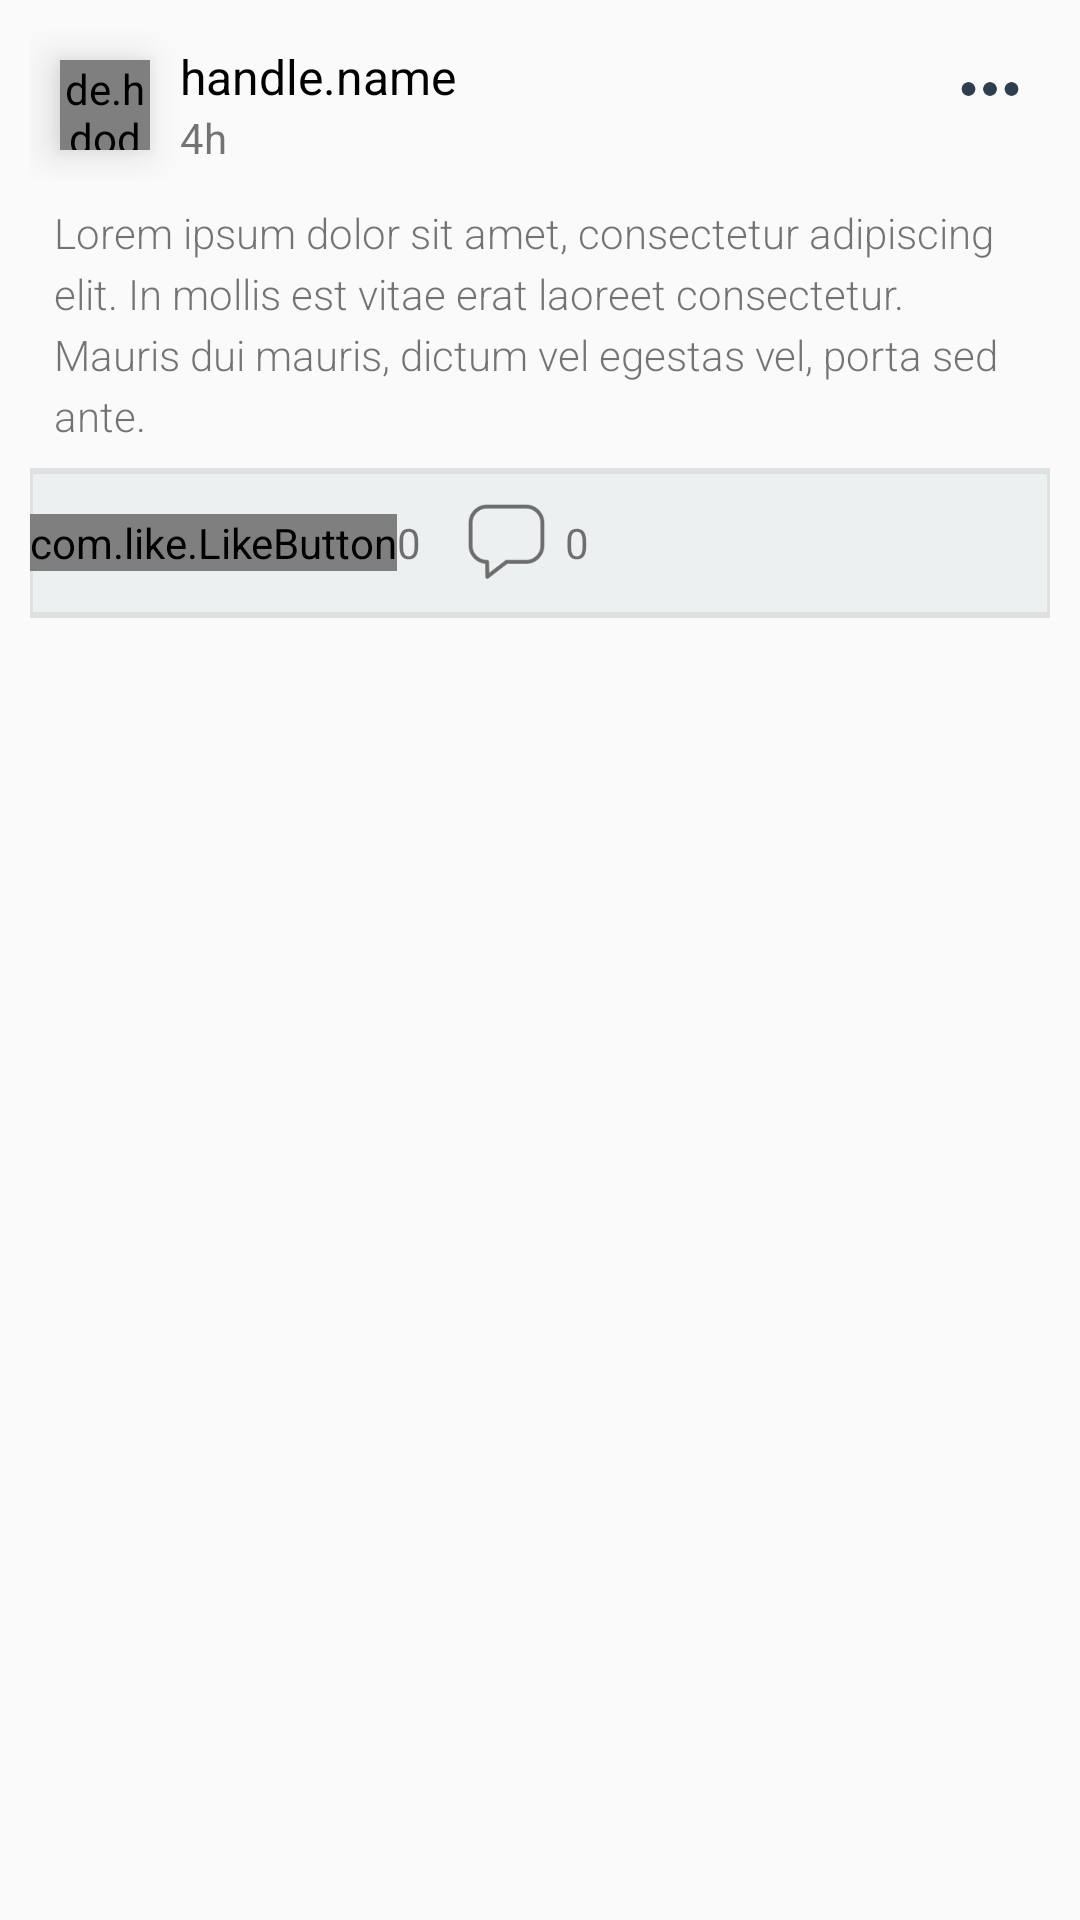

Icons on this 1080*1920 Android screen, each with its box as (x1,y1,x2,y2):
dot horizontal: (961,82,1019,96)
speech bubble: (468,504,545,579)
